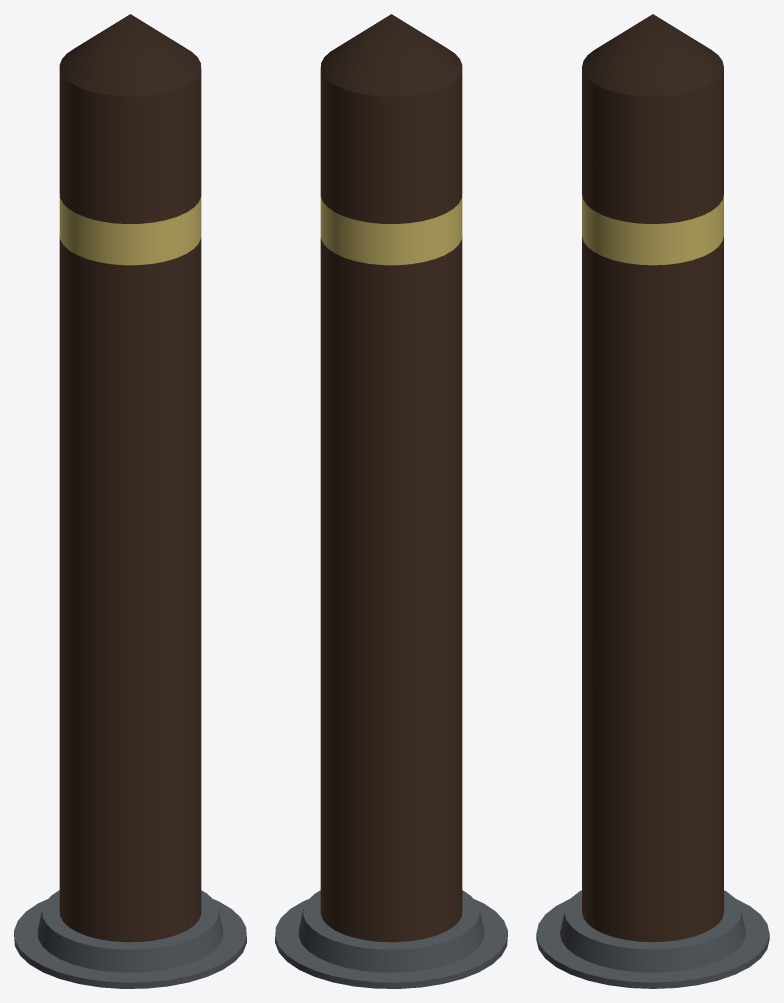
File: path_bollard.fbx
3 renders of one model, left to right at view 1: azimuth 30°, elevation 25°; view 2: azimuth 150°, elevation 25°; view 3: azimuth 270°, elevation 25°, orthographic.
Parts seen in each view (by area): view 1: Cylinder.001, Cylinder; view 2: Cylinder.001, Cylinder; view 3: Cylinder.001, Cylinder.
Part boxes in pixels (bbox=[...]): Cylinder.001: bbox=[59, 14, 201, 942]; Cylinder: bbox=[14, 890, 246, 988]; Cylinder.001: bbox=[320, 14, 462, 942]; Cylinder: bbox=[275, 890, 507, 988]; Cylinder.001: bbox=[582, 14, 723, 942]; Cylinder: bbox=[536, 890, 769, 988].
Size of the model in its own units: 200 by 876 by 200.
